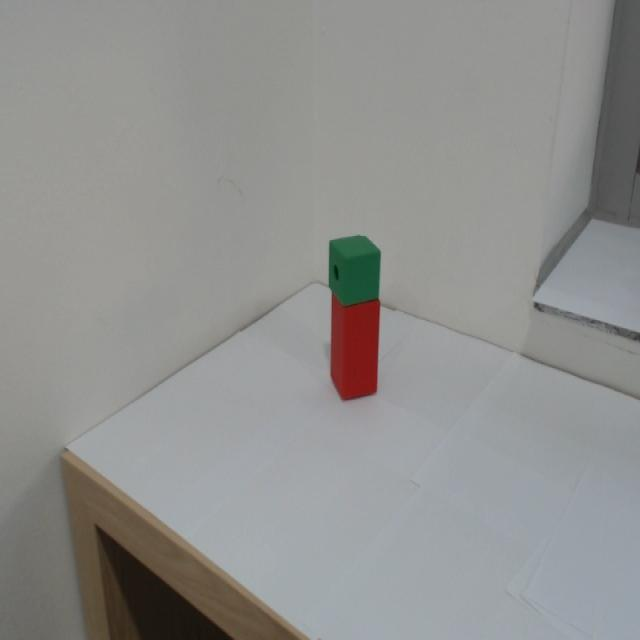cube: (324, 227, 388, 300)
